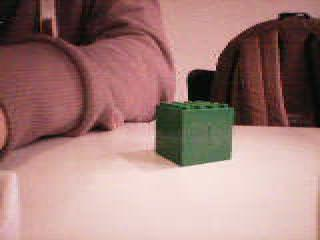legocube: (152, 97, 234, 168)
